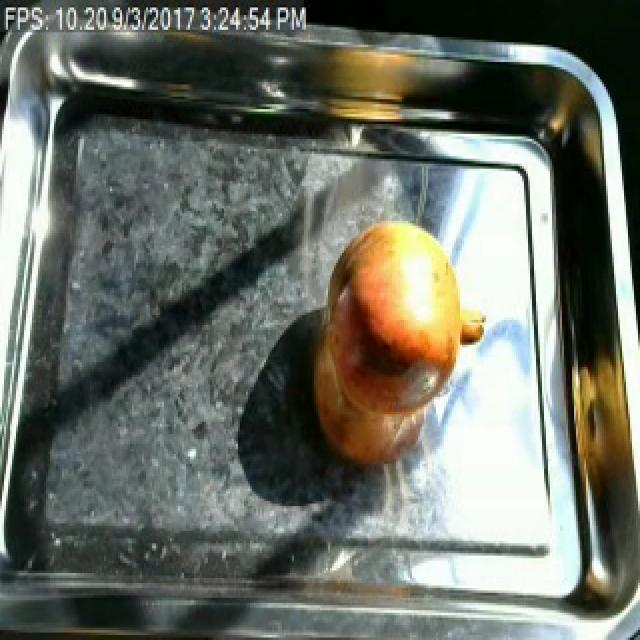fruit: (318, 204, 502, 436)
